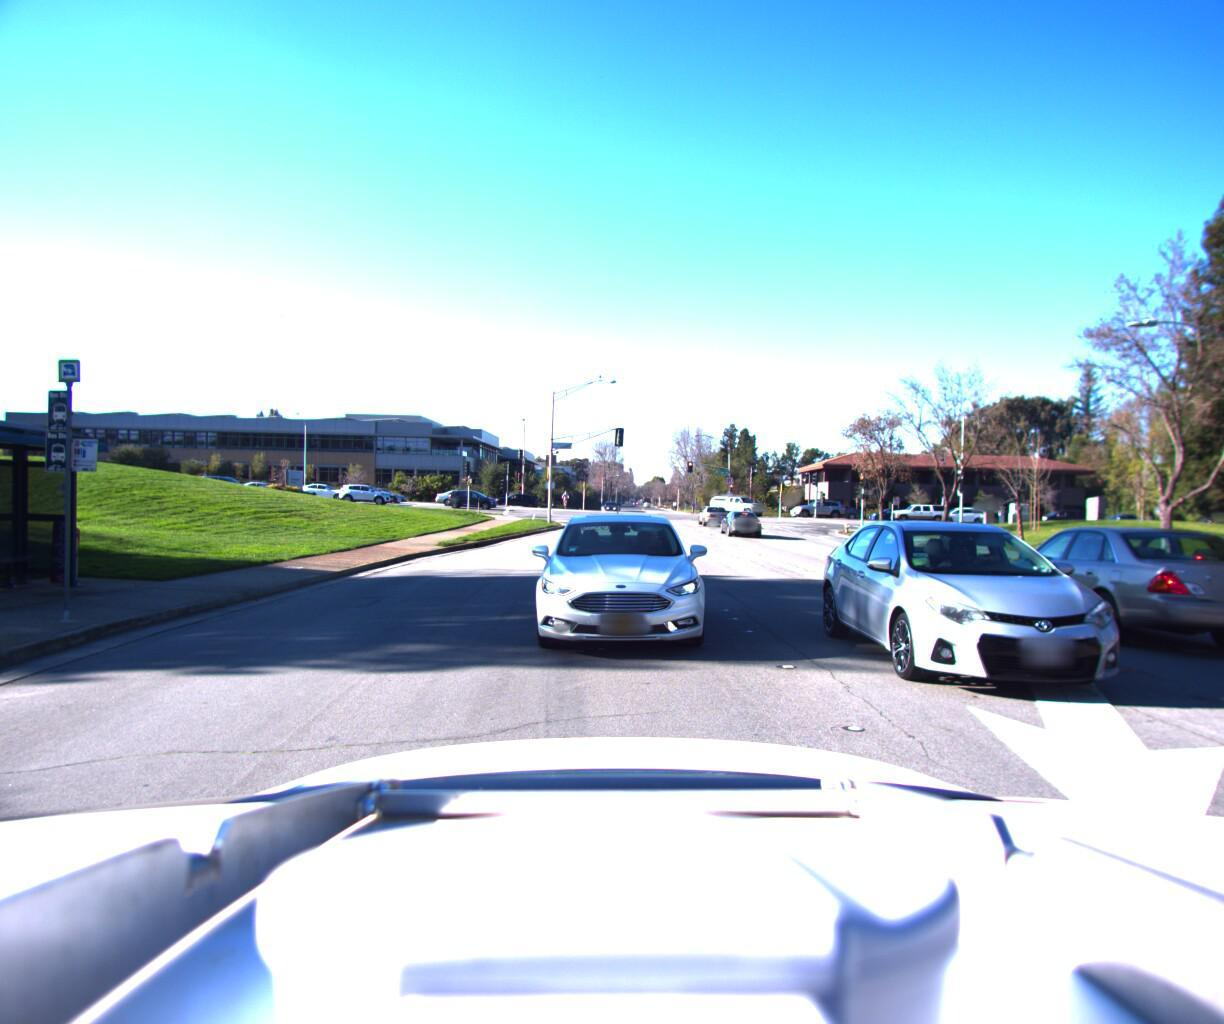bicycle: (556, 486, 565, 505)
car: (831, 505, 1224, 765), (956, 517, 1224, 657), (524, 507, 708, 670), (711, 492, 773, 516), (884, 500, 951, 522), (336, 481, 395, 503), (718, 507, 762, 536), (290, 480, 354, 499), (926, 505, 988, 525), (786, 497, 843, 518), (445, 487, 499, 507), (434, 487, 490, 505), (805, 501, 863, 519), (354, 485, 409, 502), (696, 502, 729, 525), (491, 493, 536, 508)
